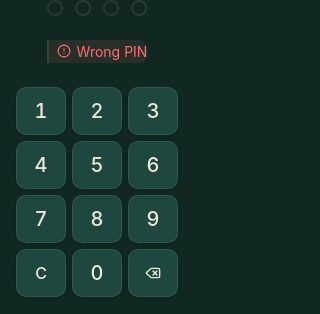
it: PinEntry › hides a non-persistent error once the staffer types again
Expected: the message "Wrong PIN" is shown, [47,40,147,63]
Click the button named "digit 1": (41, 111) [16,87,66,135]
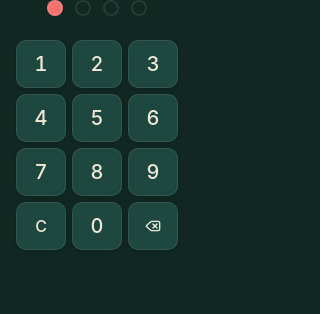
Now the message "Wrong PIN" is gone
